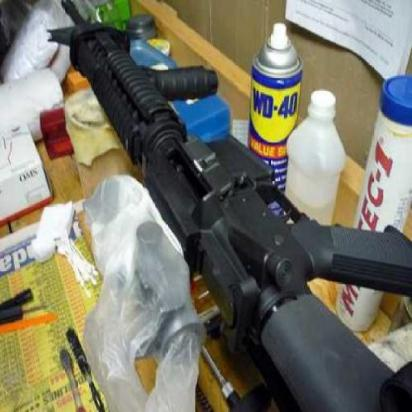Gun: (44, 0, 411, 411)
